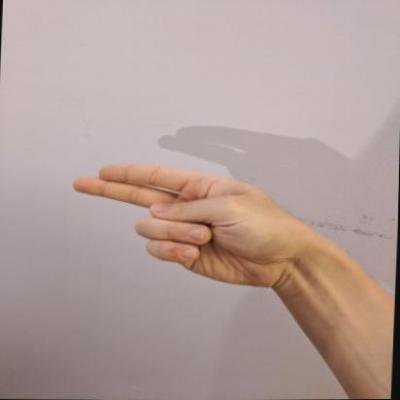hand: (64, 158, 307, 292)
